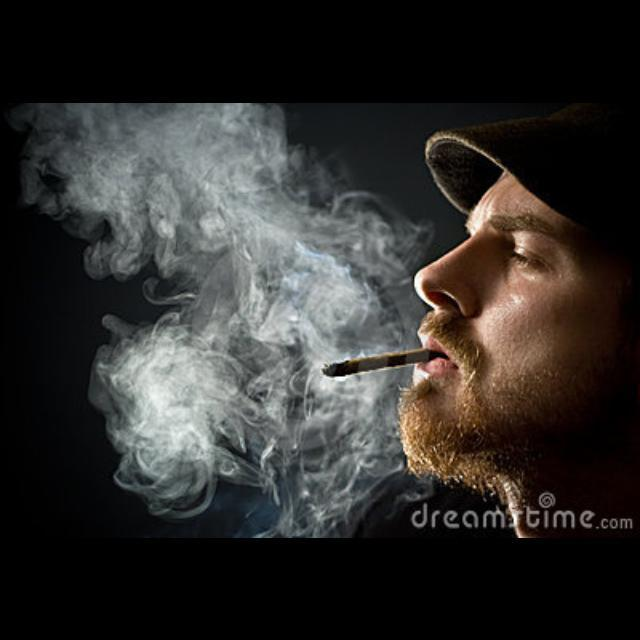rokok: (316, 336, 440, 384)
